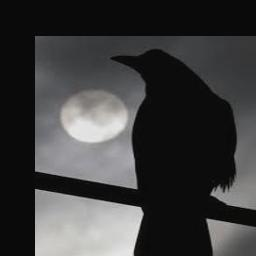Crow: (108, 48, 238, 256)
